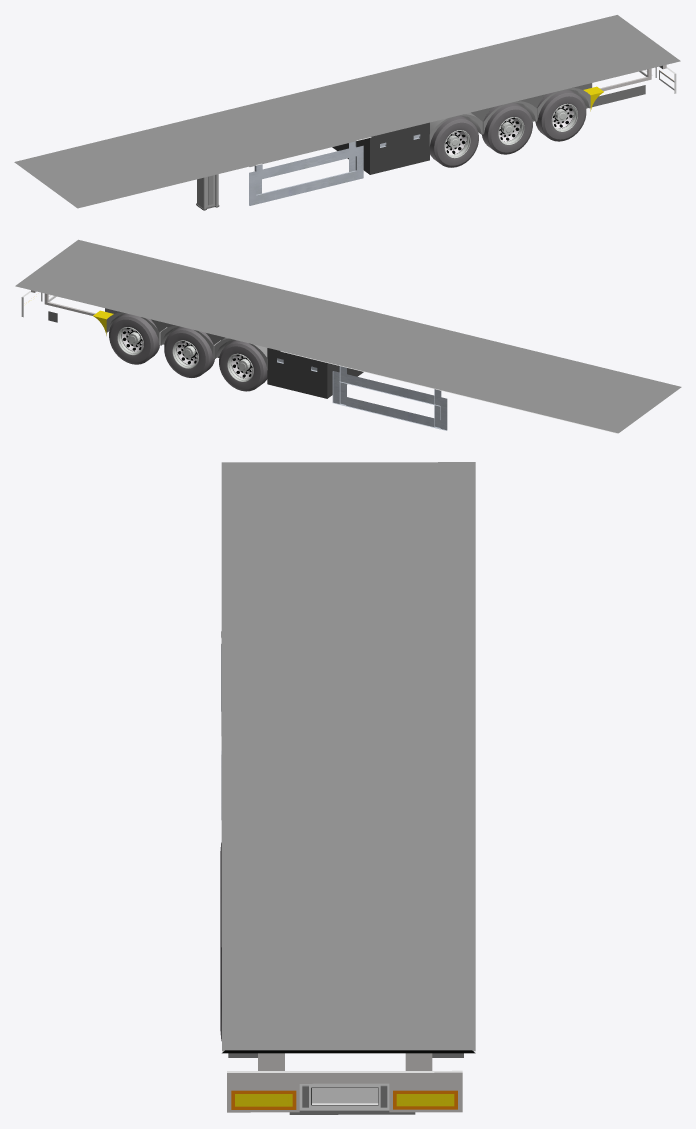
The model's file is trailer-nobox.glb.
3 views of the same model, one above another, from view 1: azimuth 30°, elevation 25°; view 2: azimuth 150°, elevation 25°; view 3: azimuth 270°, elevation 25° (orthographic). The views are drawn at different scales.
Parts seen in each view (by area): view 1: bodycar; view 2: bodycar; view 3: bodycar.
Boxes of the visible parts, x1=… form: bodycar: x1=14, y1=15, x2=680, y2=210; bodycar: x1=15, y1=239, x2=681, y2=433; bodycar: x1=220, y1=462, x2=475, y2=1114.
Bounding box in the file's own units: 9.22 × 0.7693 × 1.69.
2 materials, 2 textured.
